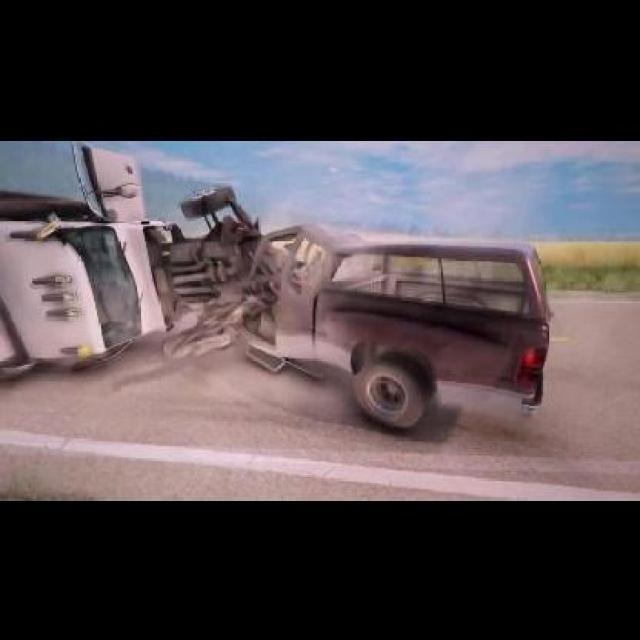accident: (0, 138, 555, 433)
